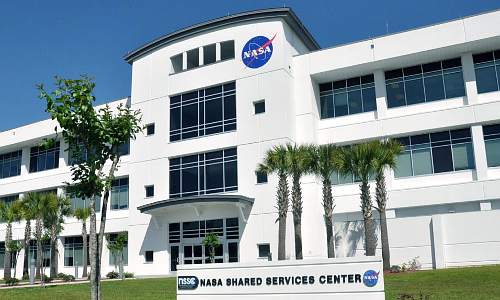NASA: (237, 32, 281, 70), (363, 269, 382, 288)
